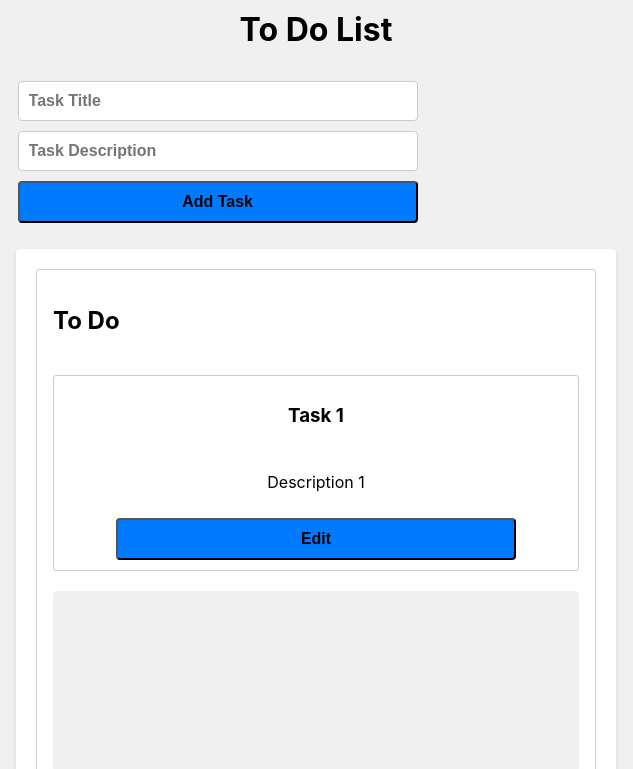
Test case: ToDoListPage › shows validation error if title or description is empty
Click the button "Add Task" at (218, 202), box [18, 181, 418, 223]
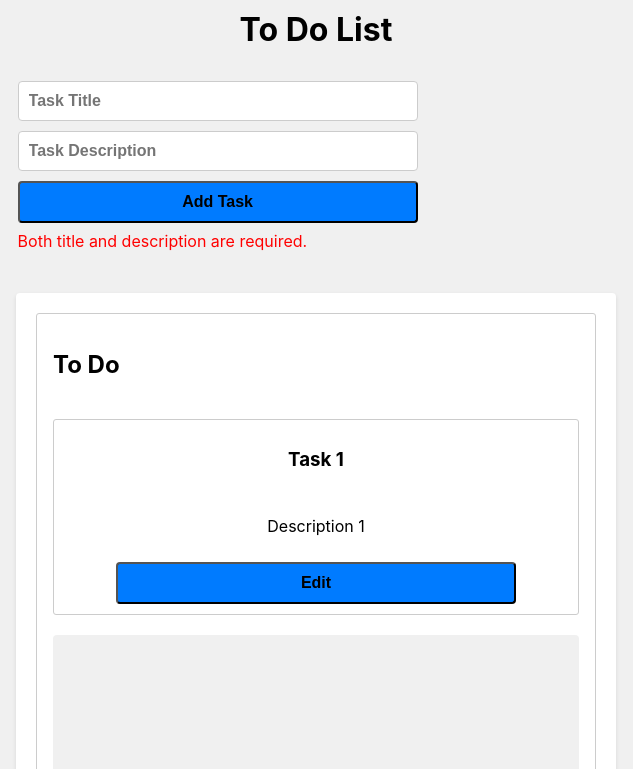
Expected: the text "Both title and description are required." is shown, [18, 231, 307, 251]
